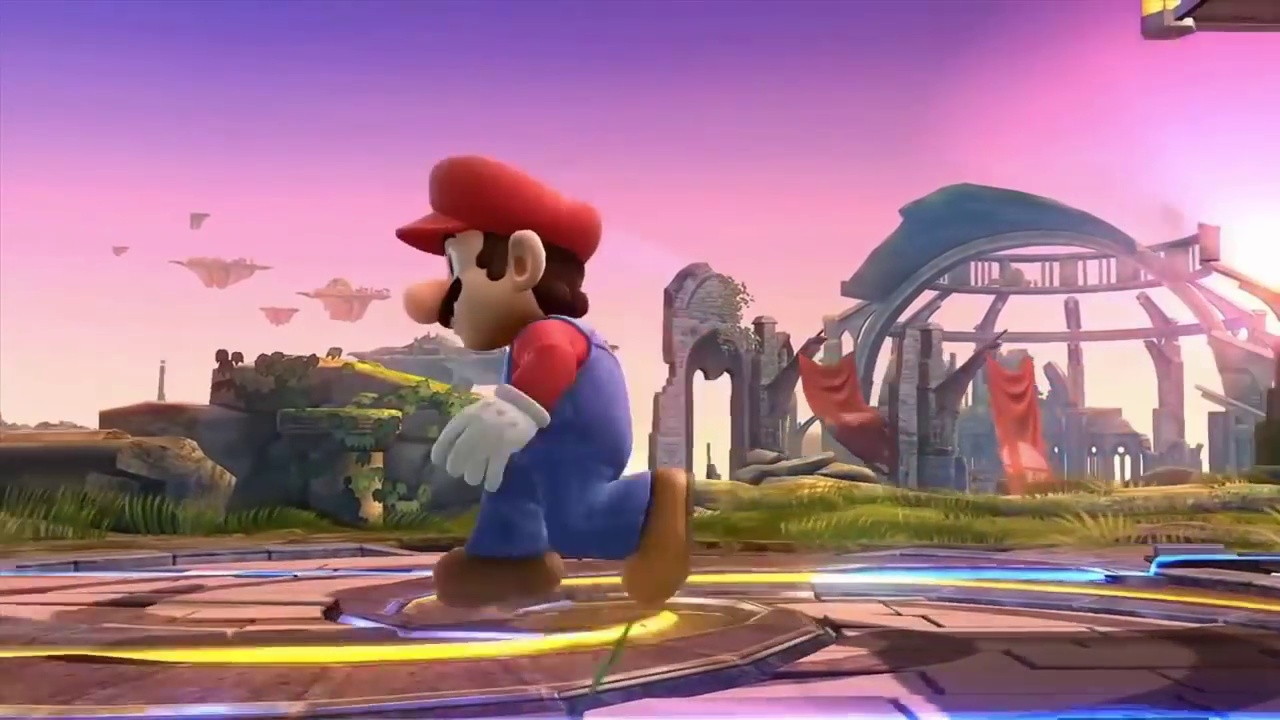Mario: (396, 155, 692, 612)
